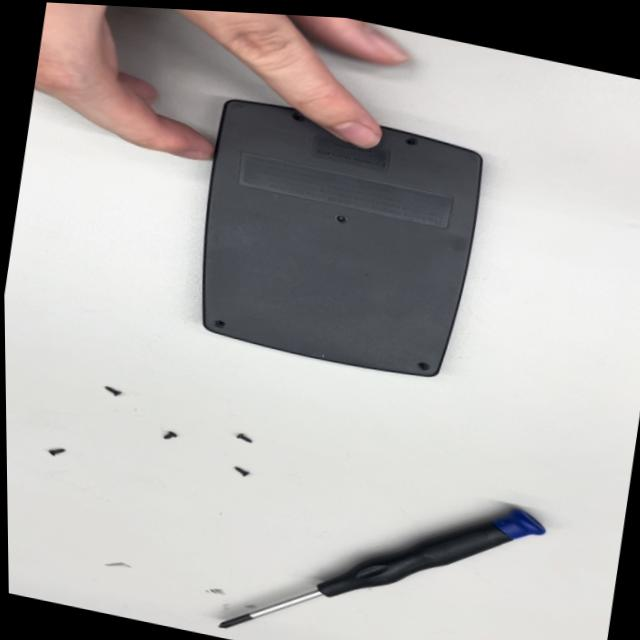back_cover: (167, 80, 501, 396)
screw: (226, 425, 267, 450), (225, 457, 259, 487), (38, 438, 73, 465), (156, 424, 182, 449), (103, 383, 129, 402)
screw_driver: (209, 443, 553, 640)
